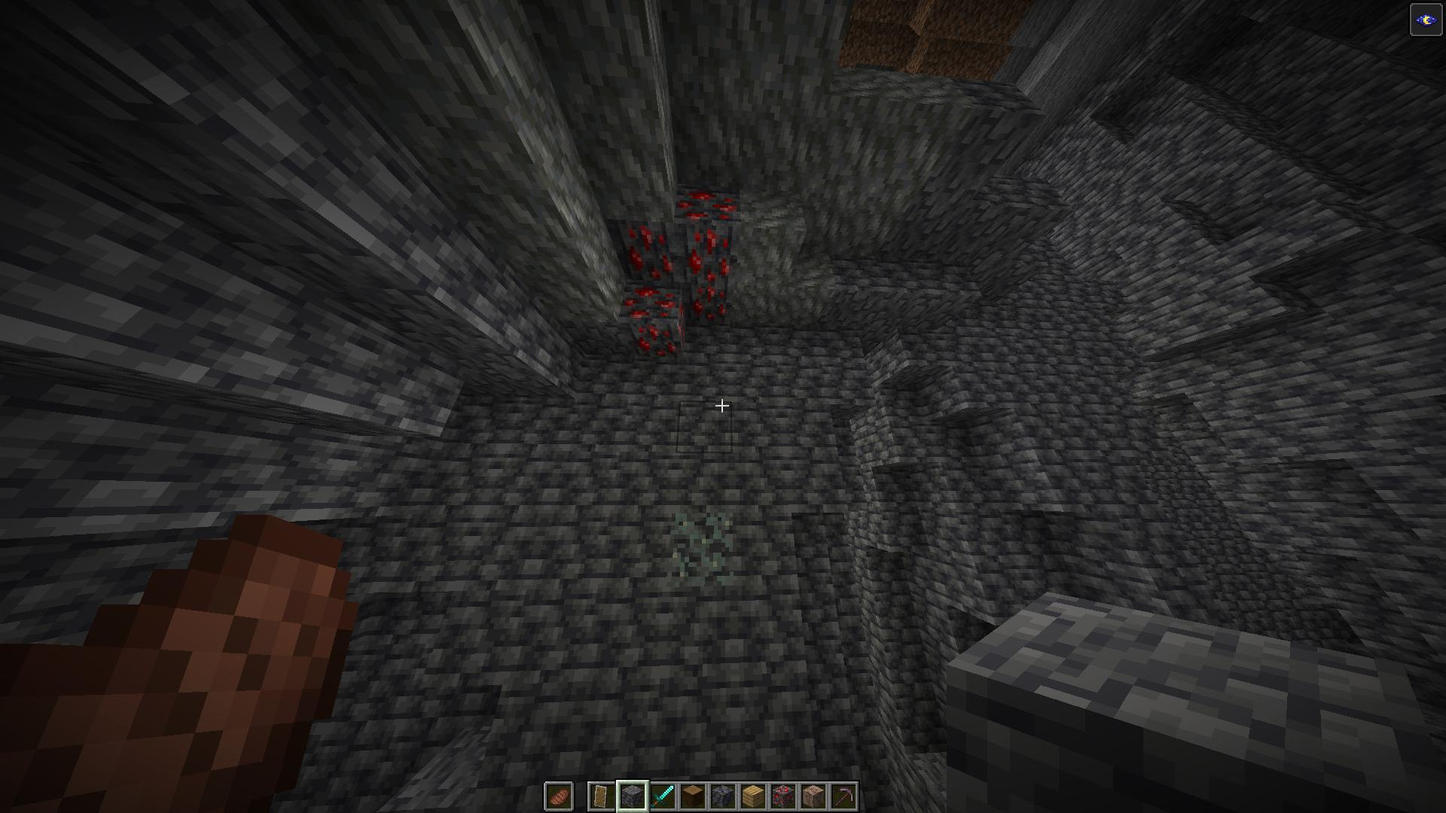redstone ore: (620, 195, 733, 349)
